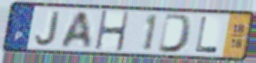1: (143, 12, 159, 53)
A: (59, 10, 93, 49)
D: (156, 13, 195, 55)
H: (93, 9, 131, 53)
J: (34, 10, 63, 47)
L: (193, 15, 219, 54)
